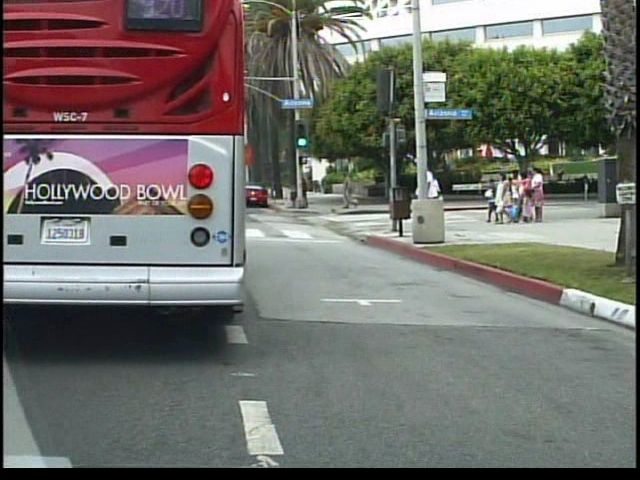person: (413, 160, 446, 239), (424, 170, 448, 234), (343, 169, 362, 212)
